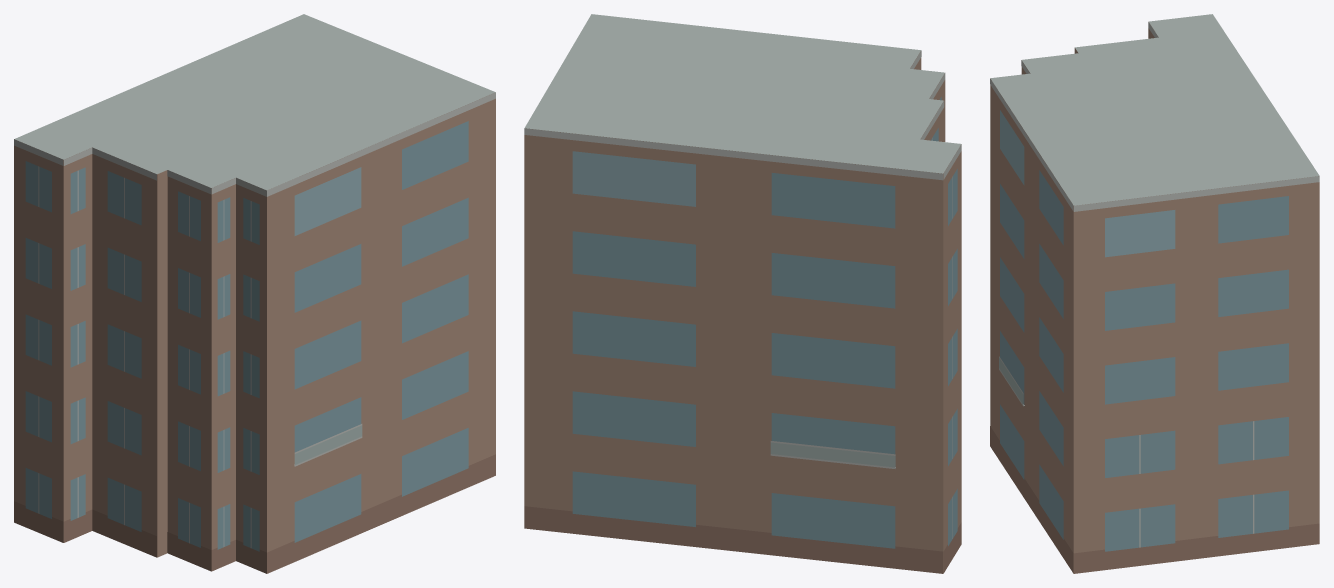
Rendered from survey-upis-32971732.glb.
3 renders of one model, left to right at view 1: azimuth 30°, elevation 25°; view 2: azimuth 150°, elevation 25°; view 3: azimuth 270°, elevation 25°, orthographic. The views are drawn at different scales.
Parts seen in each view (by area): view 1: survey-upis-32971732.tmp; view 2: survey-upis-32971732.tmp; view 3: survey-upis-32971732.tmp.
Boxes of the visible parts, box(x1,y1,x2,y2) form: survey-upis-32971732.tmp: box(14, 14, 495, 573); survey-upis-32971732.tmp: box(524, 14, 961, 573); survey-upis-32971732.tmp: box(990, 14, 1319, 573).
Size of the model in its own units: 16.27 by 14.55 by 11.82.
